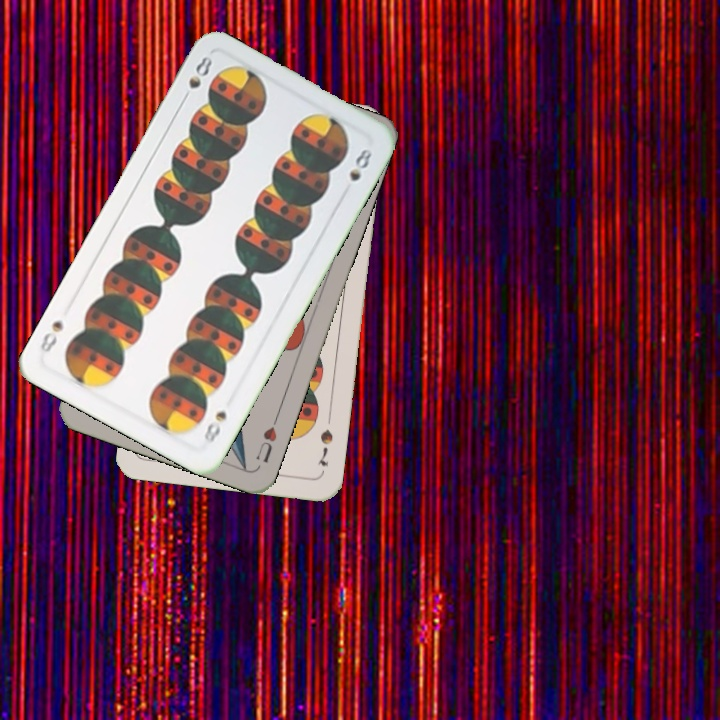HU: (251, 412, 281, 466)
S7: (313, 425, 336, 469)
S8: (177, 52, 215, 106), (200, 406, 230, 447)
